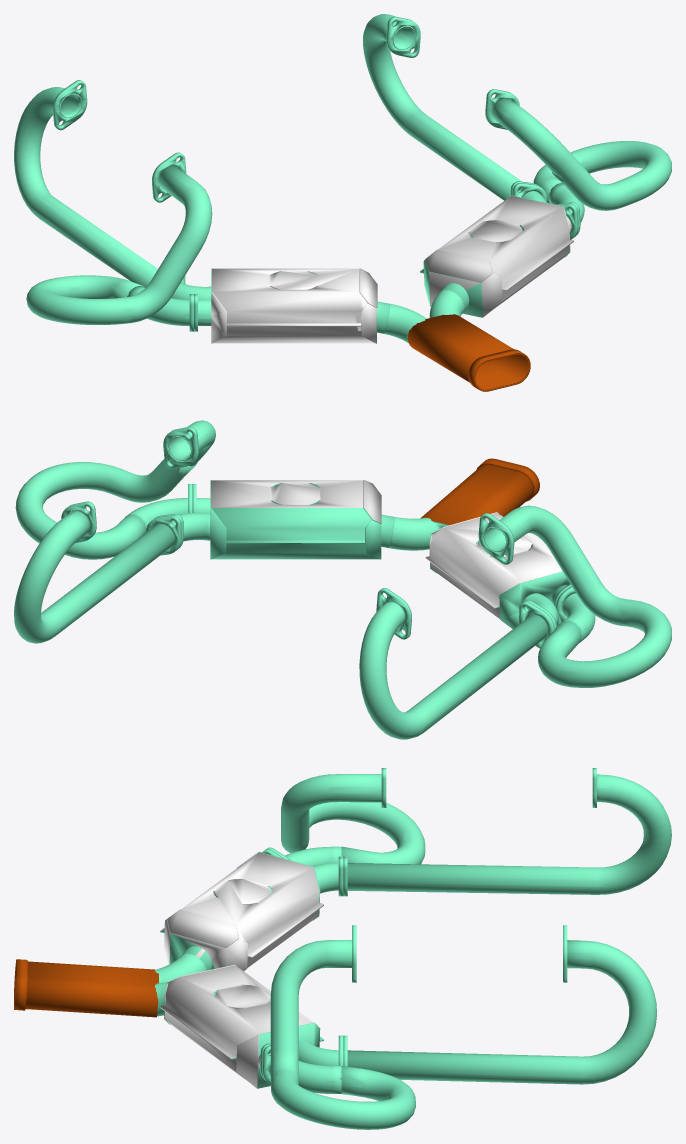
The picture shows the model from 3 angles, top to bottom: view 1: azimuth 30°, elevation 25°; view 2: azimuth 150°, elevation 25°; view 3: azimuth 270°, elevation 25°; orthographic projection. The views are drawn at different scales.
Visible parts, largest first — view 1: _Mesh; view 2: _Mesh; view 3: _Mesh.
Part boxes in pixels (x1,y1,x2,y2): _Mesh: (14,14,671,391); _Mesh: (14,420,671,739); _Mesh: (14,768,671,1129).
Bounding box in the file's own units: 1.03 × 0.2405 × 0.8884.
